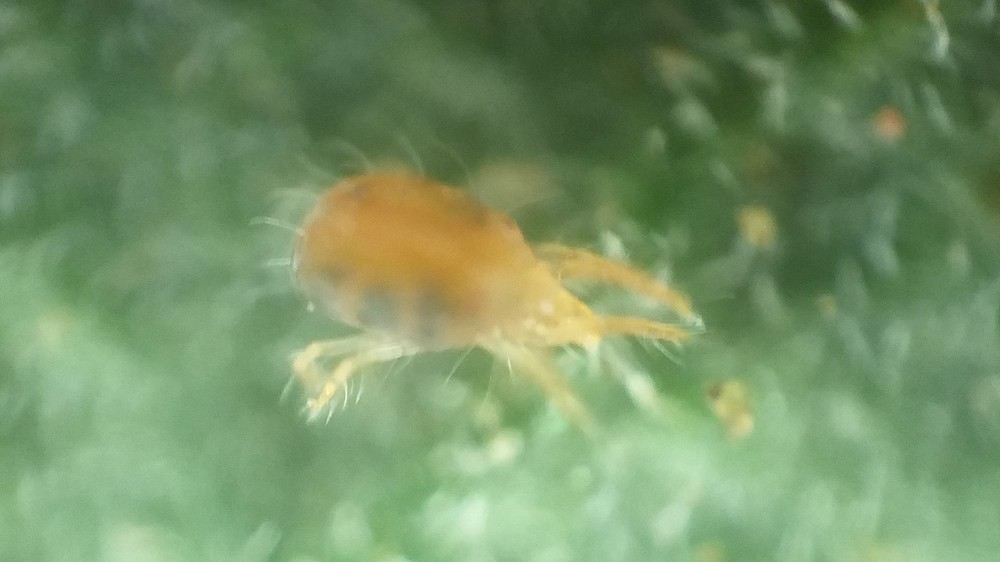Aracnido Rojo: (219, 124, 770, 468)
